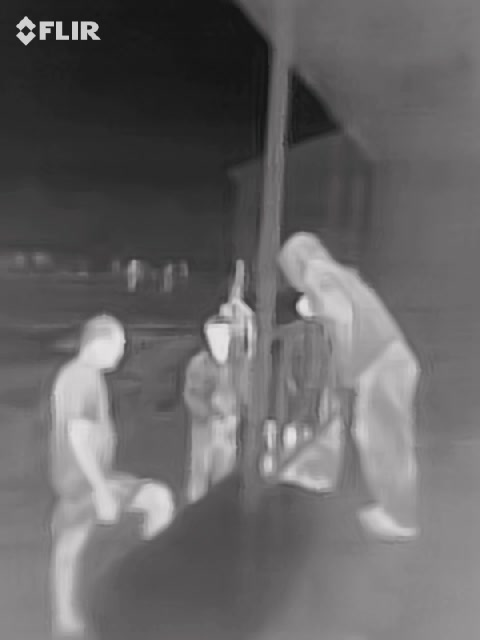head: (77, 314, 131, 372)
